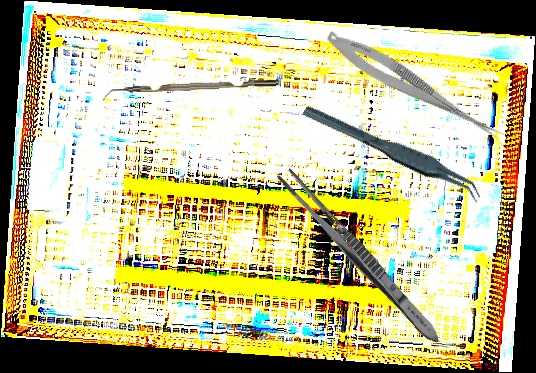Chopper: (102, 79, 279, 101)
Dressing Forceps: (271, 163, 448, 350)
Micro Scissor: (319, 24, 511, 148)
Tissue Forceps: (301, 85, 486, 219)
